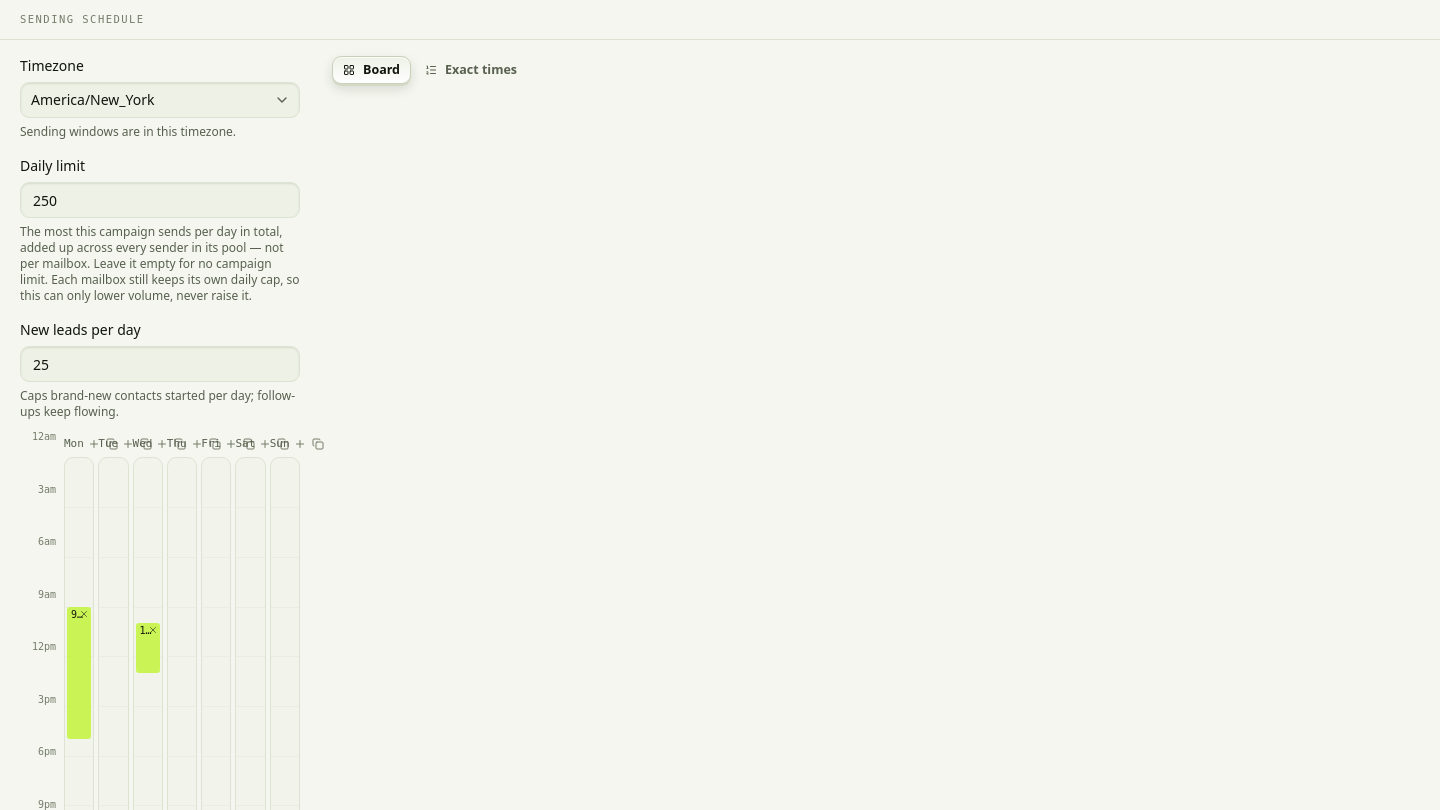
Test case: SchedulePanel › removing the last window blocks the save with an explanation
Click the button "Exact times" at (471, 70), box top-left (415, 56), bottom-right (527, 84)
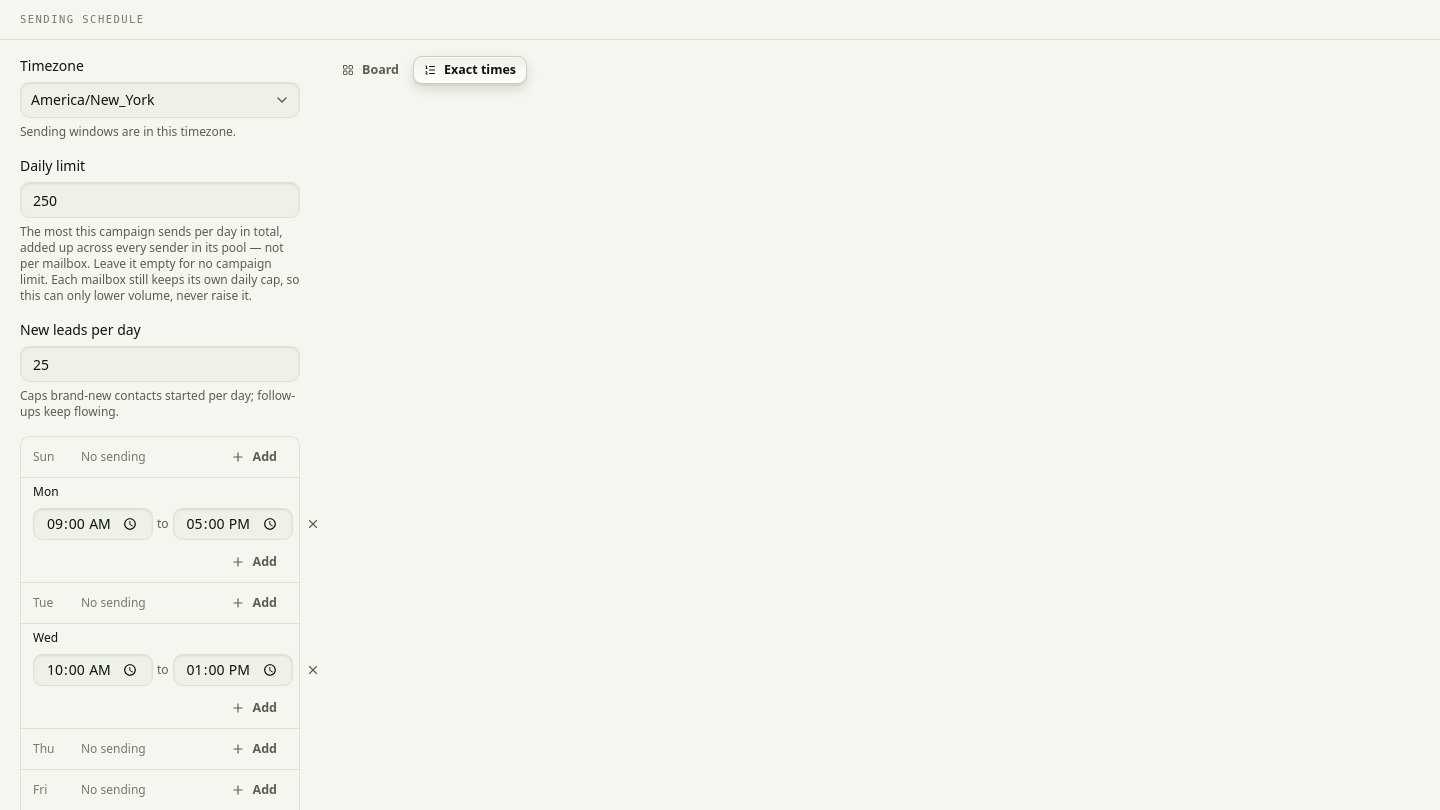
Expected: the time field named "Mon window 1 start" is shown, top-left (33, 508), bottom-right (153, 540)
Click the button named "remove mon window 1" at (313, 524), box top-left (297, 508), bottom-right (329, 540)
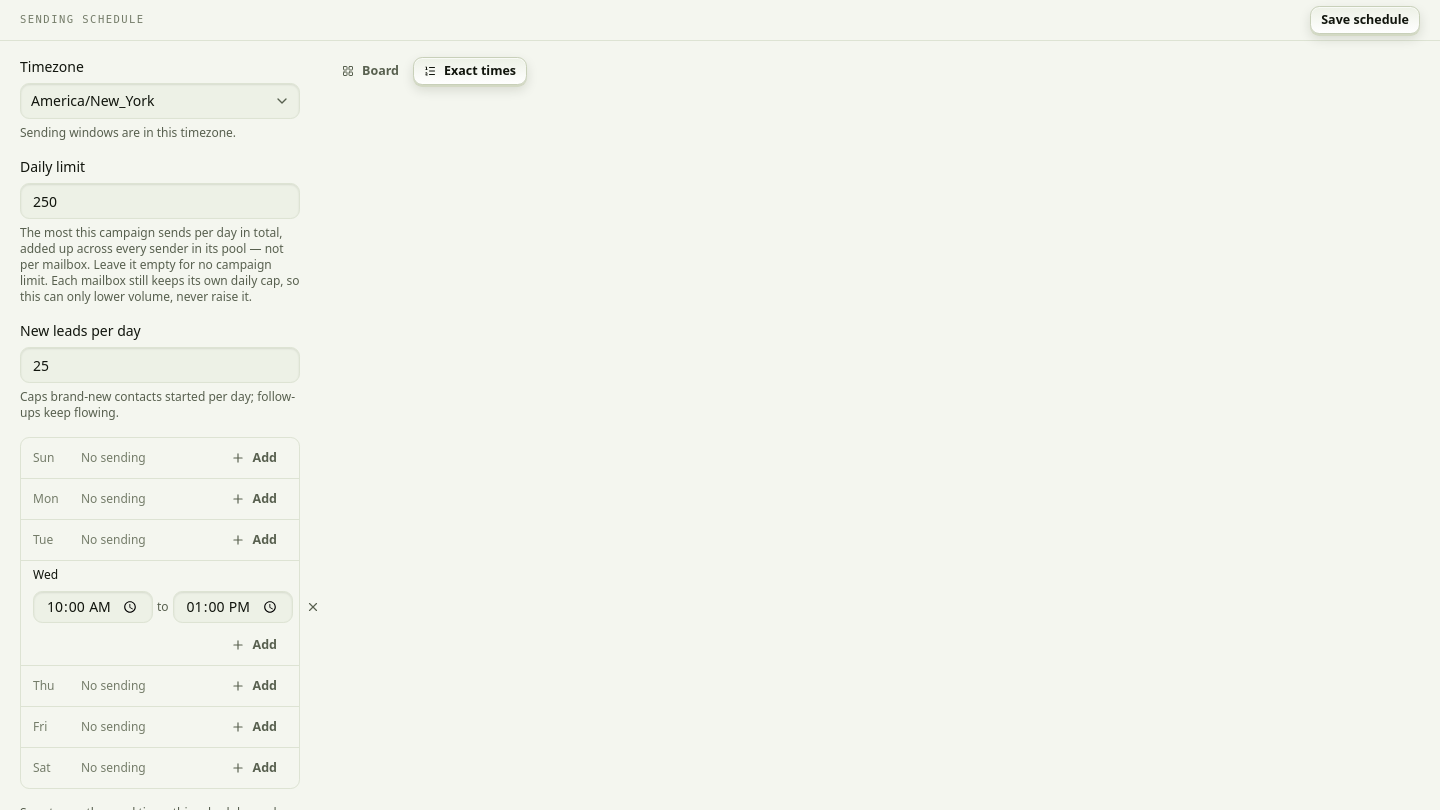
Click the button named "remove wed window 1" at (313, 607), box top-left (297, 591), bottom-right (329, 623)
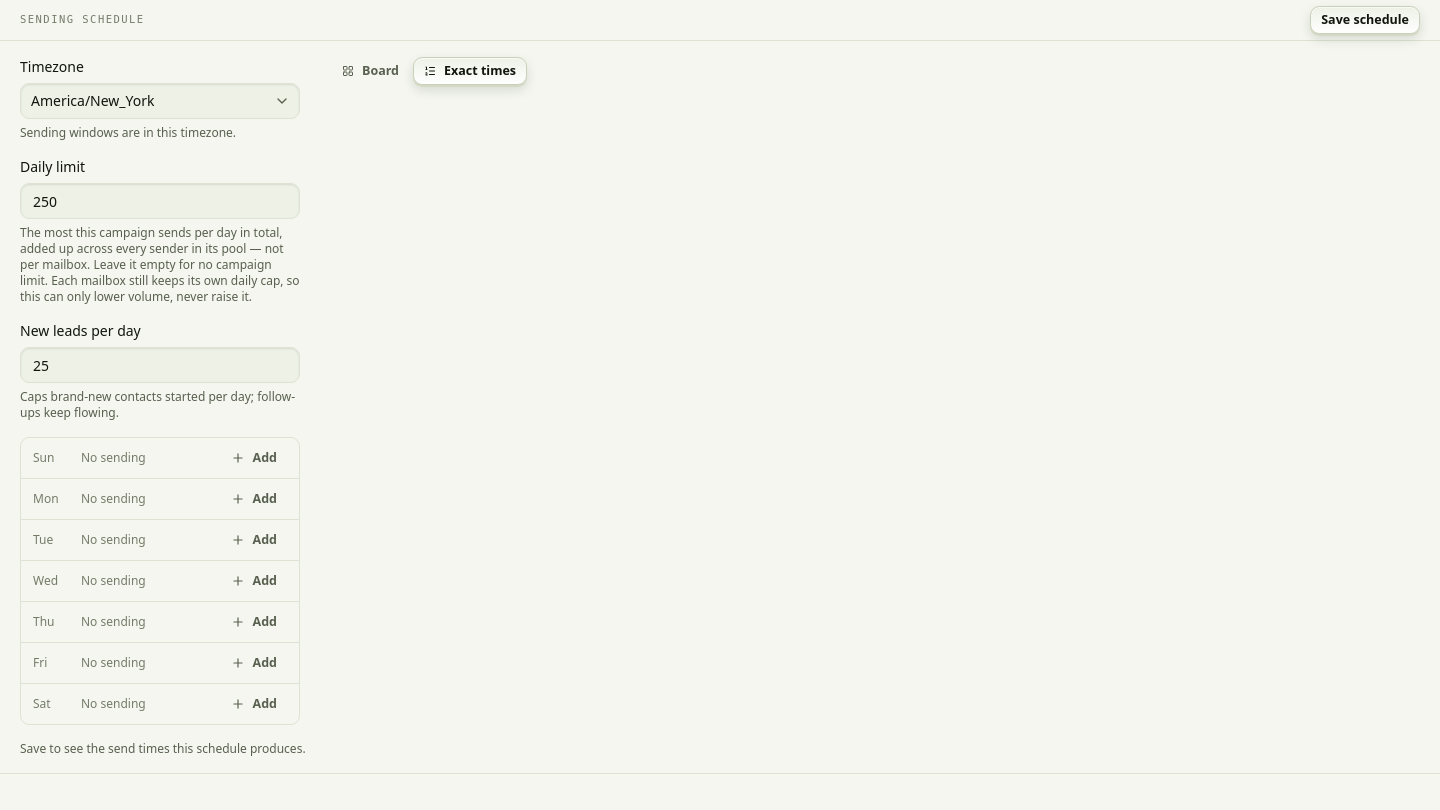
Click the button "Save schedule" at (1365, 20), box top-left (1310, 6), bottom-right (1420, 34)
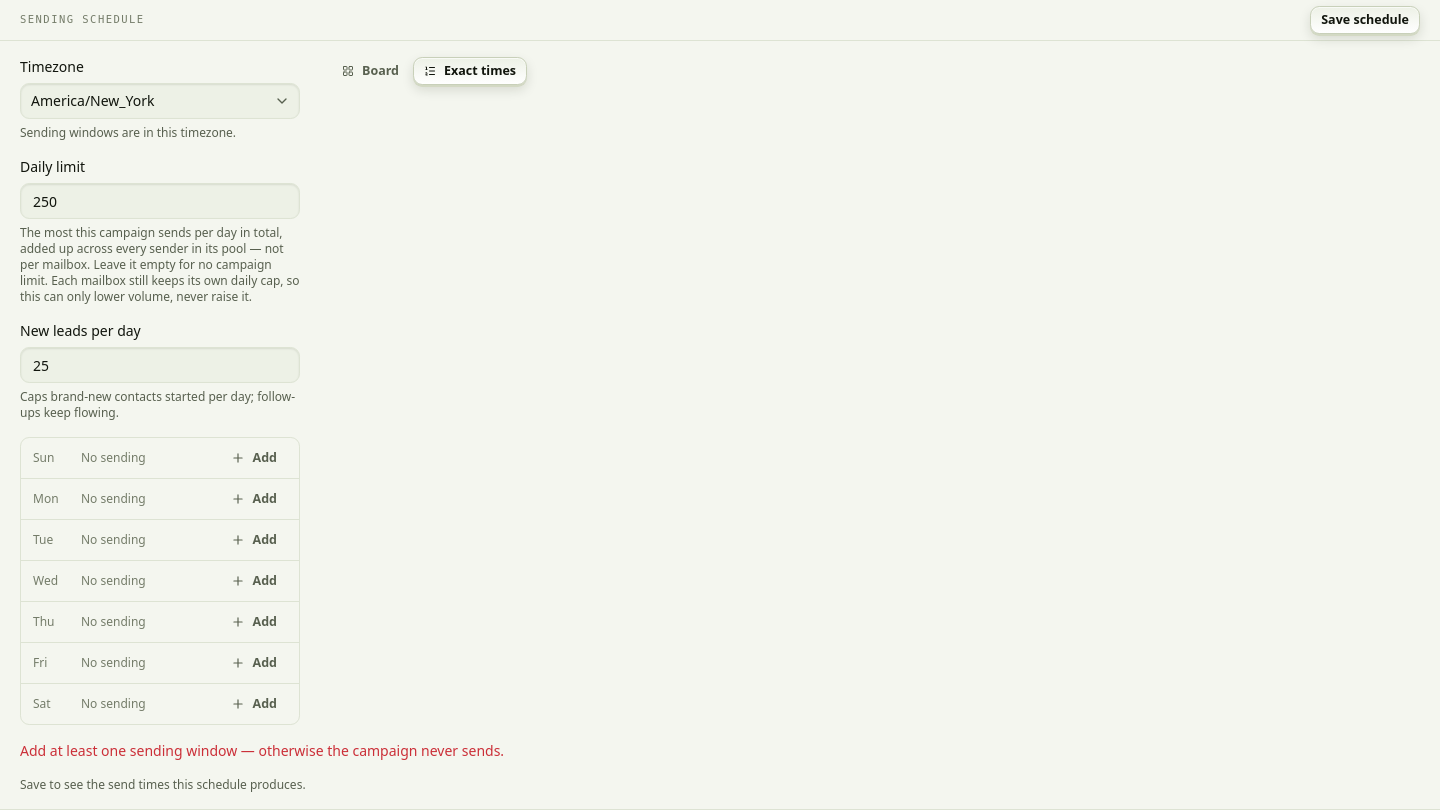
Expected: the message shows "at least one sending window", top-left (20, 741), bottom-right (504, 760)
